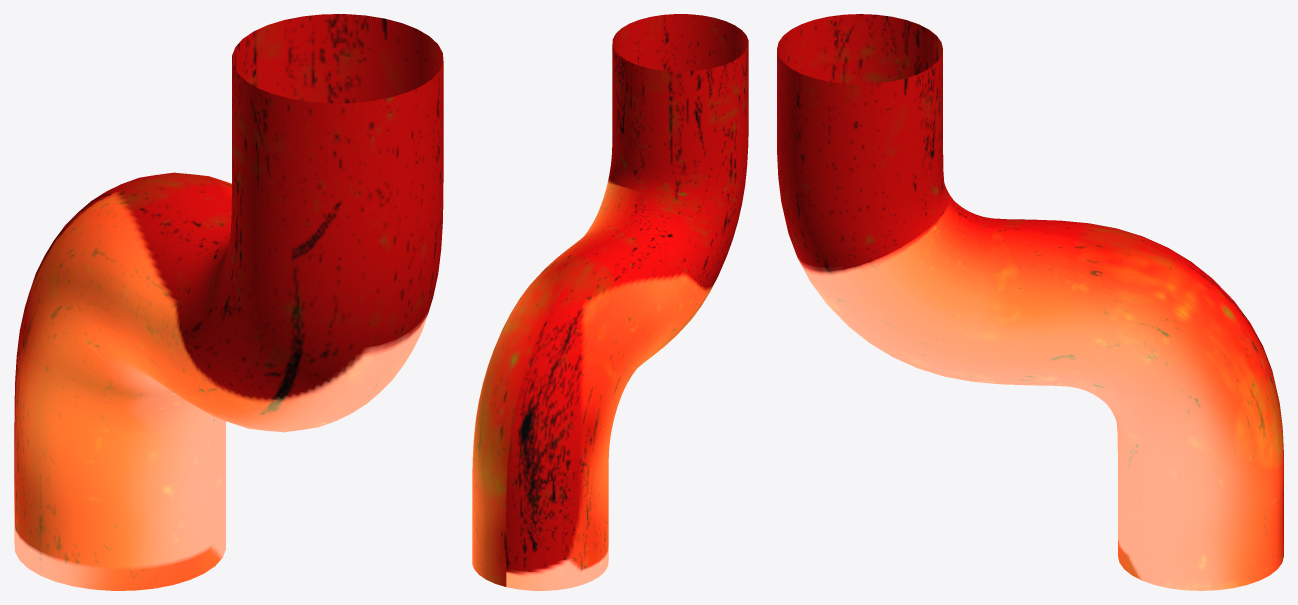
File: SM_IronPipe_curv_02.fbx
The picture shows the model from 3 angles, left to right: view 1: azimuth 30°, elevation 25°; view 2: azimuth 150°, elevation 25°; view 3: azimuth 270°, elevation 25°; orthographic projection. The views are drawn at different scales.
Visible parts, largest first — view 1: SM_IronPipe_curv_02_LOD0; view 2: SM_IronPipe_curv_02_LOD0; view 3: SM_IronPipe_curv_02_LOD0.
Boxes of the visible parts, x1,y1,x2,y2 form: SM_IronPipe_curv_02_LOD0: (14,14,443,590); SM_IronPipe_curv_02_LOD0: (472,14,748,590); SM_IronPipe_curv_02_LOD0: (777,14,1283,590).
Bounding box in the file's own units: 14.85 × 45.33 × 50.
